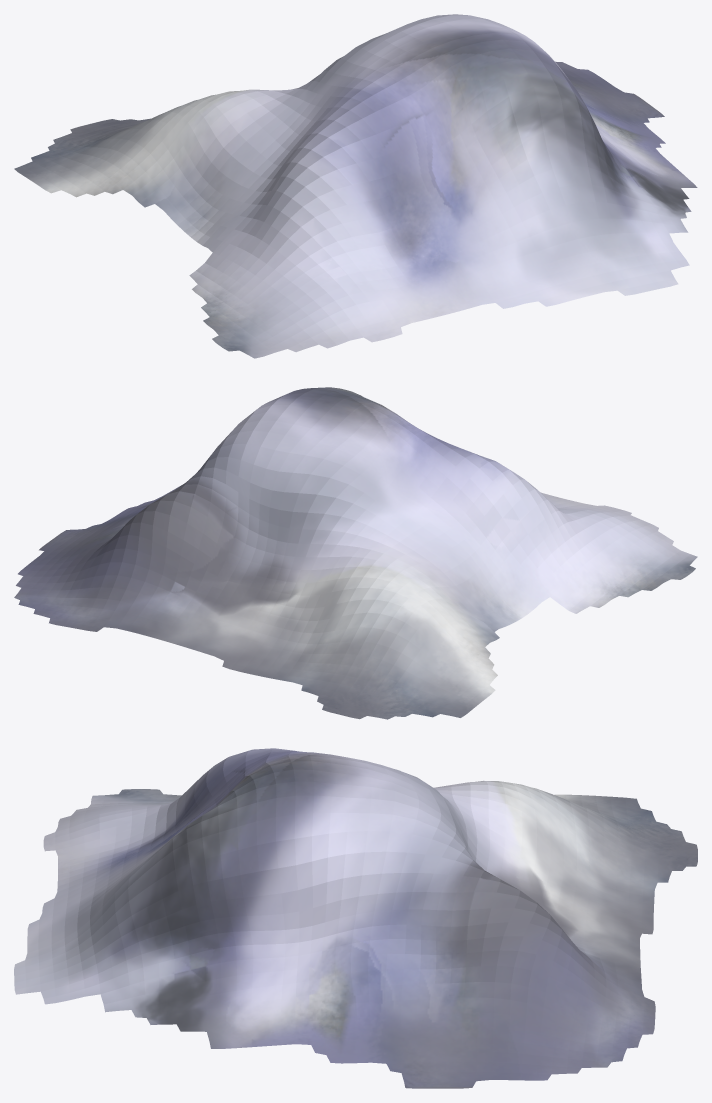
Rendered from hill 4 small.fbx.
The picture shows the model from 3 angles, top to bottom: view 1: azimuth 30°, elevation 25°; view 2: azimuth 150°, elevation 25°; view 3: azimuth 270°, elevation 25°; orthographic projection. The views are drawn at different scales.
Visible parts, largest first — view 1: Plane.004; view 2: Plane.004; view 3: Plane.004.
Boxes of the visible parts, x1,y1,x2,y2 form: Plane.004: (14,14,697,358); Plane.004: (14,387,697,719); Plane.004: (14,748,697,1088).
Size of the model in its own units: 2337 by 669 by 2251.
